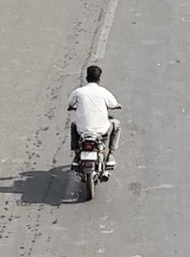BikeWithRider: (65, 65, 123, 200)
NoHelmet: (85, 65, 103, 85)
